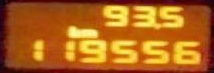-: (152, 22, 161, 29)
1: (30, 38, 44, 61), (61, 39, 74, 62)
3: (130, 4, 155, 26)
5: (107, 38, 138, 63), (139, 39, 168, 63), (157, 5, 184, 28)
6: (169, 39, 201, 64)
9: (77, 39, 107, 63), (100, 4, 128, 26)
X: (66, 24, 80, 37), (81, 27, 97, 38)
